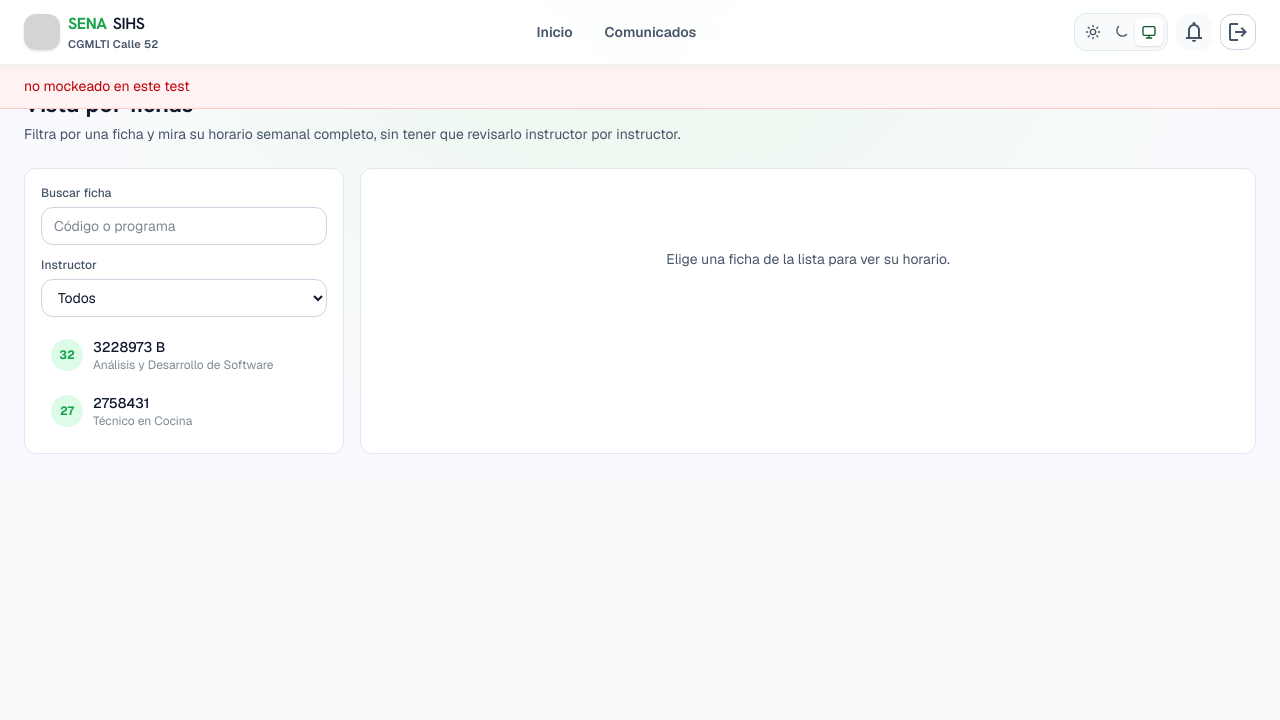
VistaFichas › clic en una ficha muestra su horario y un link "Ver info" al detalle
Click the text "3228973 B" at (129, 347), box 93,338 -> 165,356
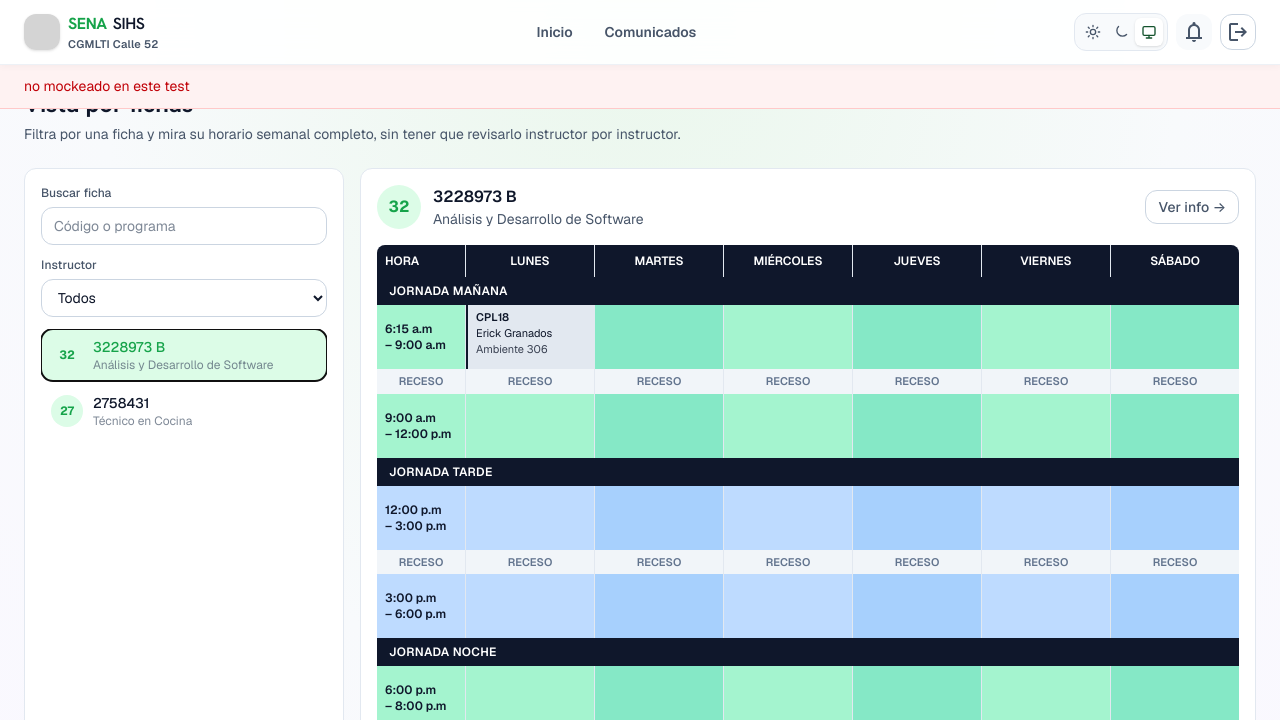
Expected: the text "CPL18" is shown, 476,310 -> 509,324
